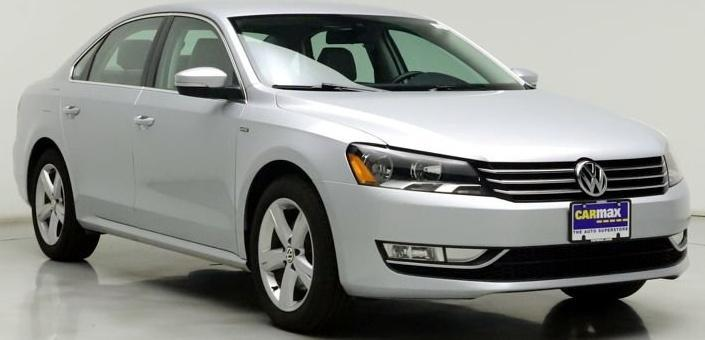Cars: (15, 4, 691, 333)
